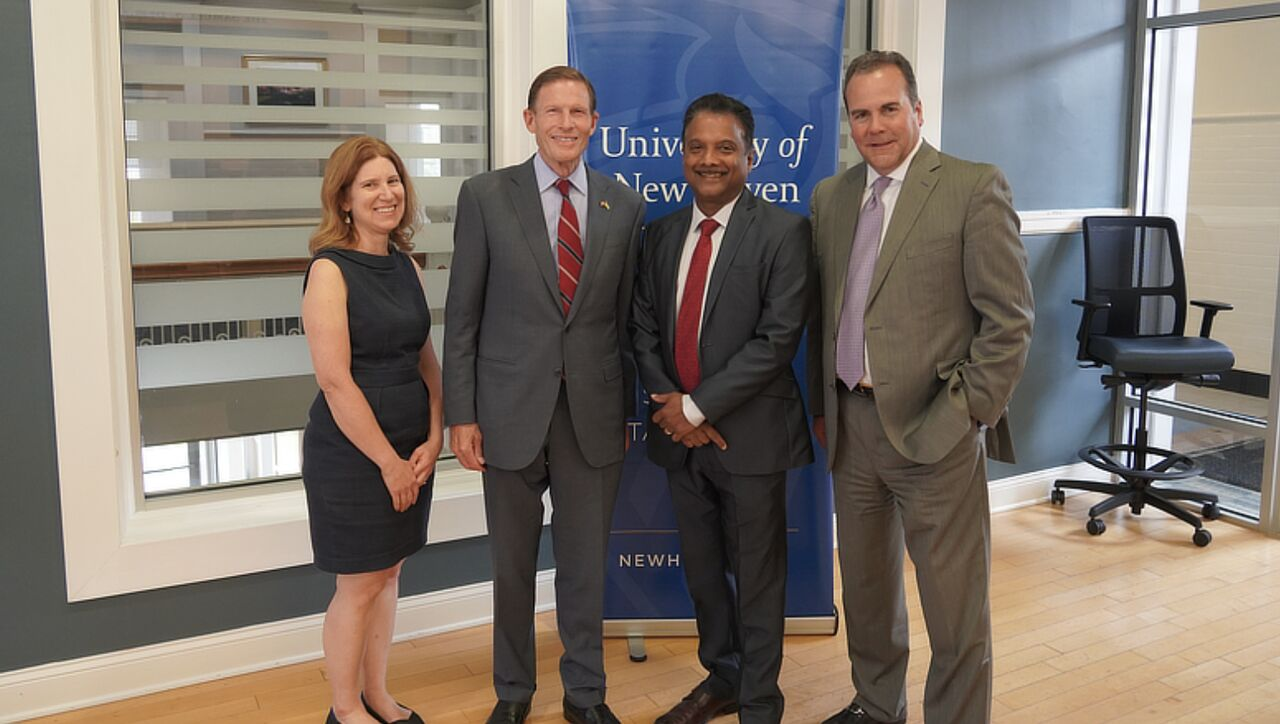Staff: (824, 39, 979, 223), (636, 80, 796, 239), (272, 131, 432, 280), (502, 64, 623, 206)
